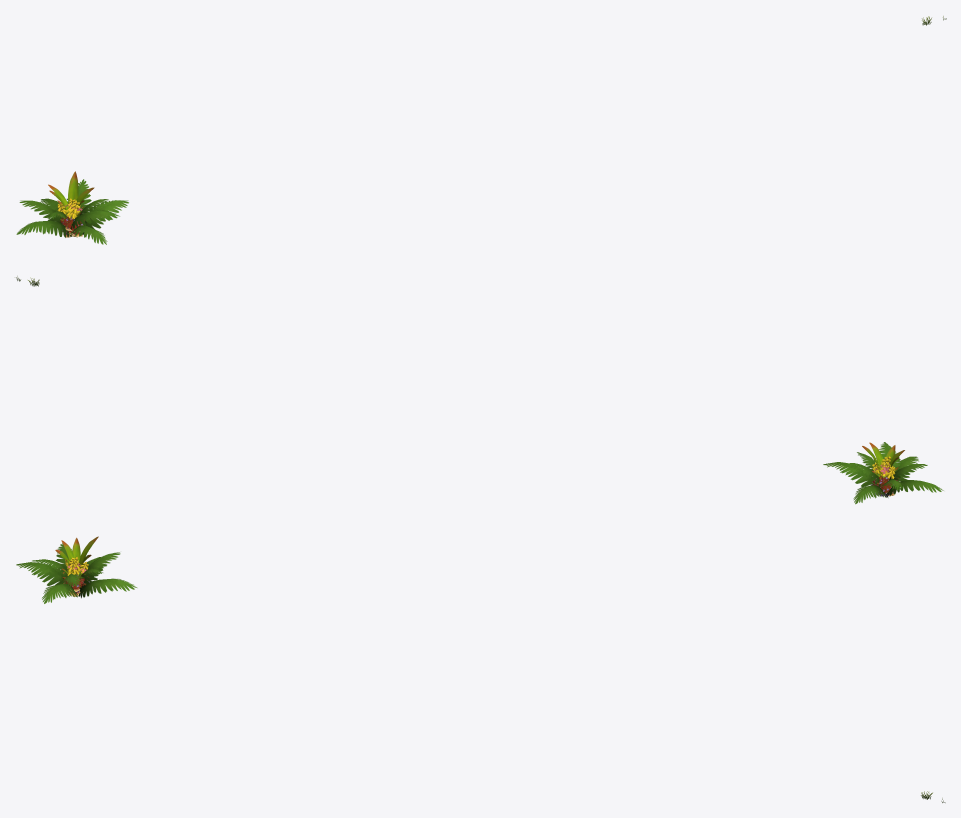
Rendered from plants.glb.
3 views of the same model, one above another, from view 1: azimuth 30°, elevation 25°; view 2: azimuth 150°, elevation 25°; view 3: azimuth 330°, elevation 25° (orthographic).
Parts seen in each view (by area): view 1: Fern_1, Plant_1_Big; view 2: Fern_1; view 3: Fern_1.
Boxes of the visible parts, bbox=[...] form: Fern_1: bbox=[16, 179, 128, 244]; Plant_1_Big: bbox=[48, 171, 94, 220]; Fern_1: bbox=[823, 442, 943, 504]; Fern_1: bbox=[16, 543, 137, 603].
Size of the model in its own units: 69.12 by 3.95 by 8.49.
Materials: 7 (7 with a texture image).
